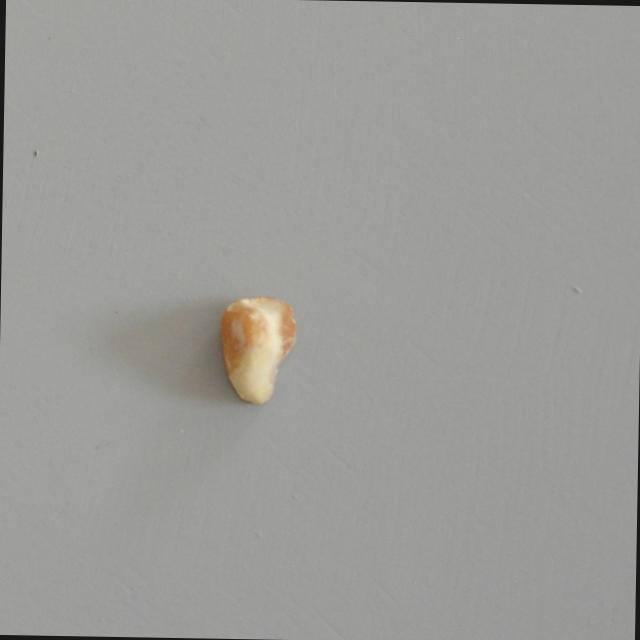dañado: (214, 290, 307, 406)
